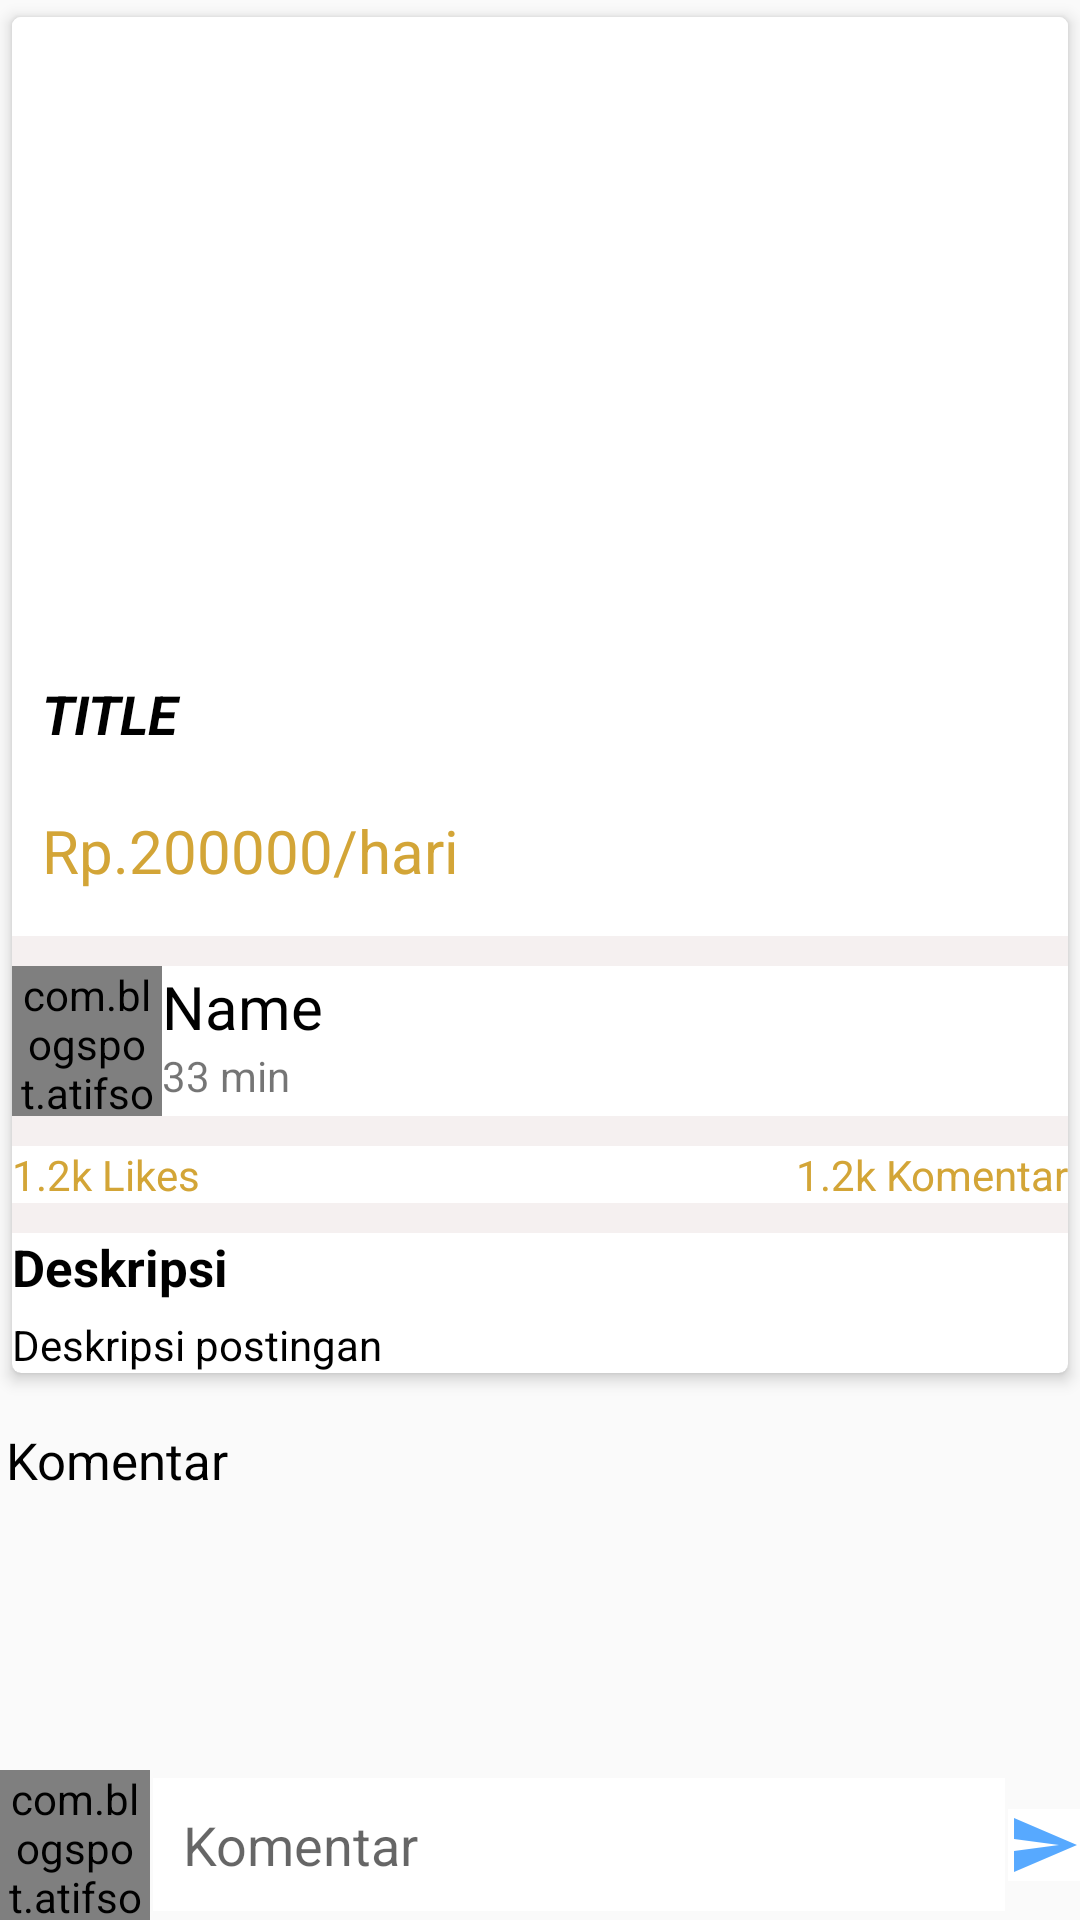

Icon click points for this 1080 × 1920 phone screenshot, format point (x, y):
send: point (1045, 1845)
